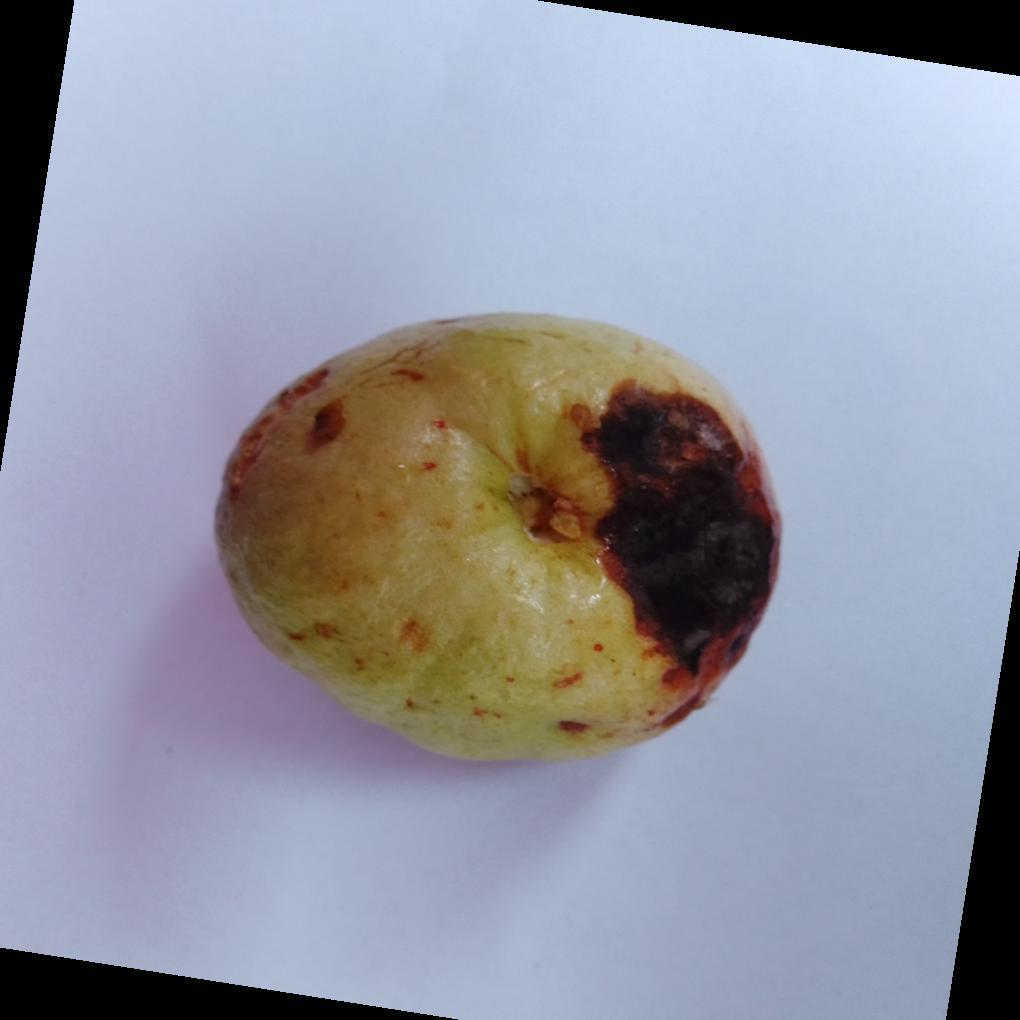FreshOrange: (211, 314, 783, 767)
